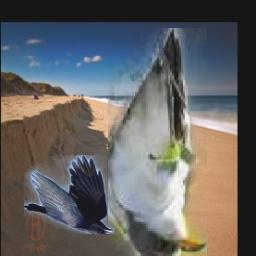Crow: (24, 155, 115, 234)
Cuckoo: (107, 29, 206, 256)
